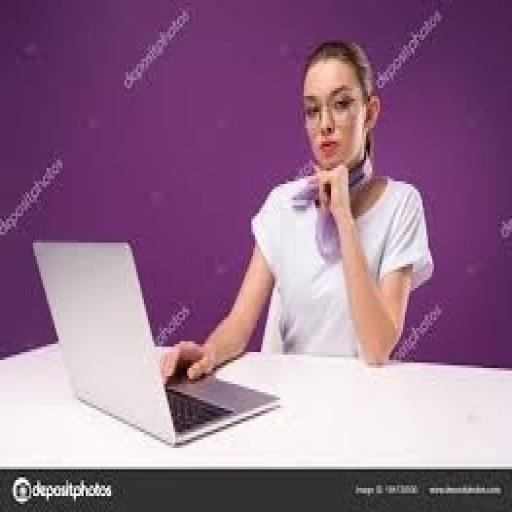using_laptop: (30, 235, 280, 448)
